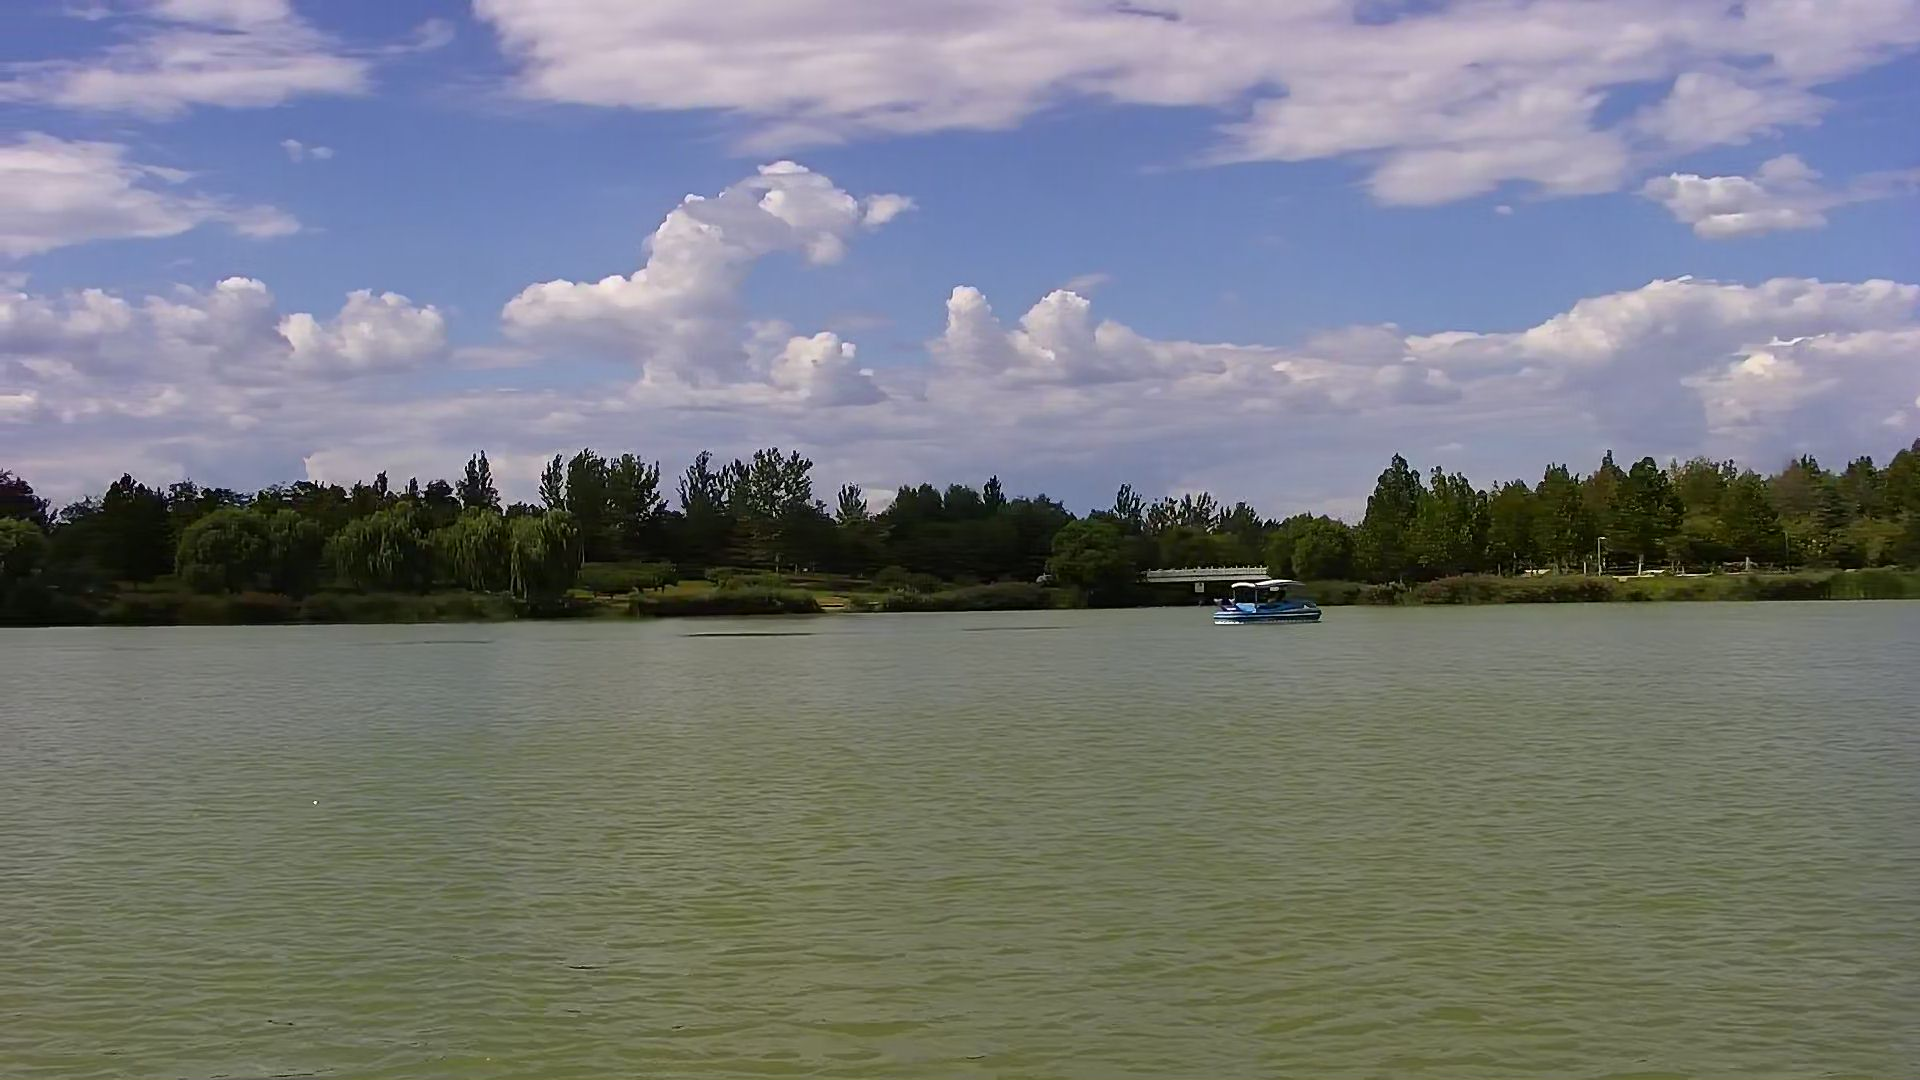boat: (1217, 578, 1305, 617)
bridge: (1149, 564, 1271, 604)
